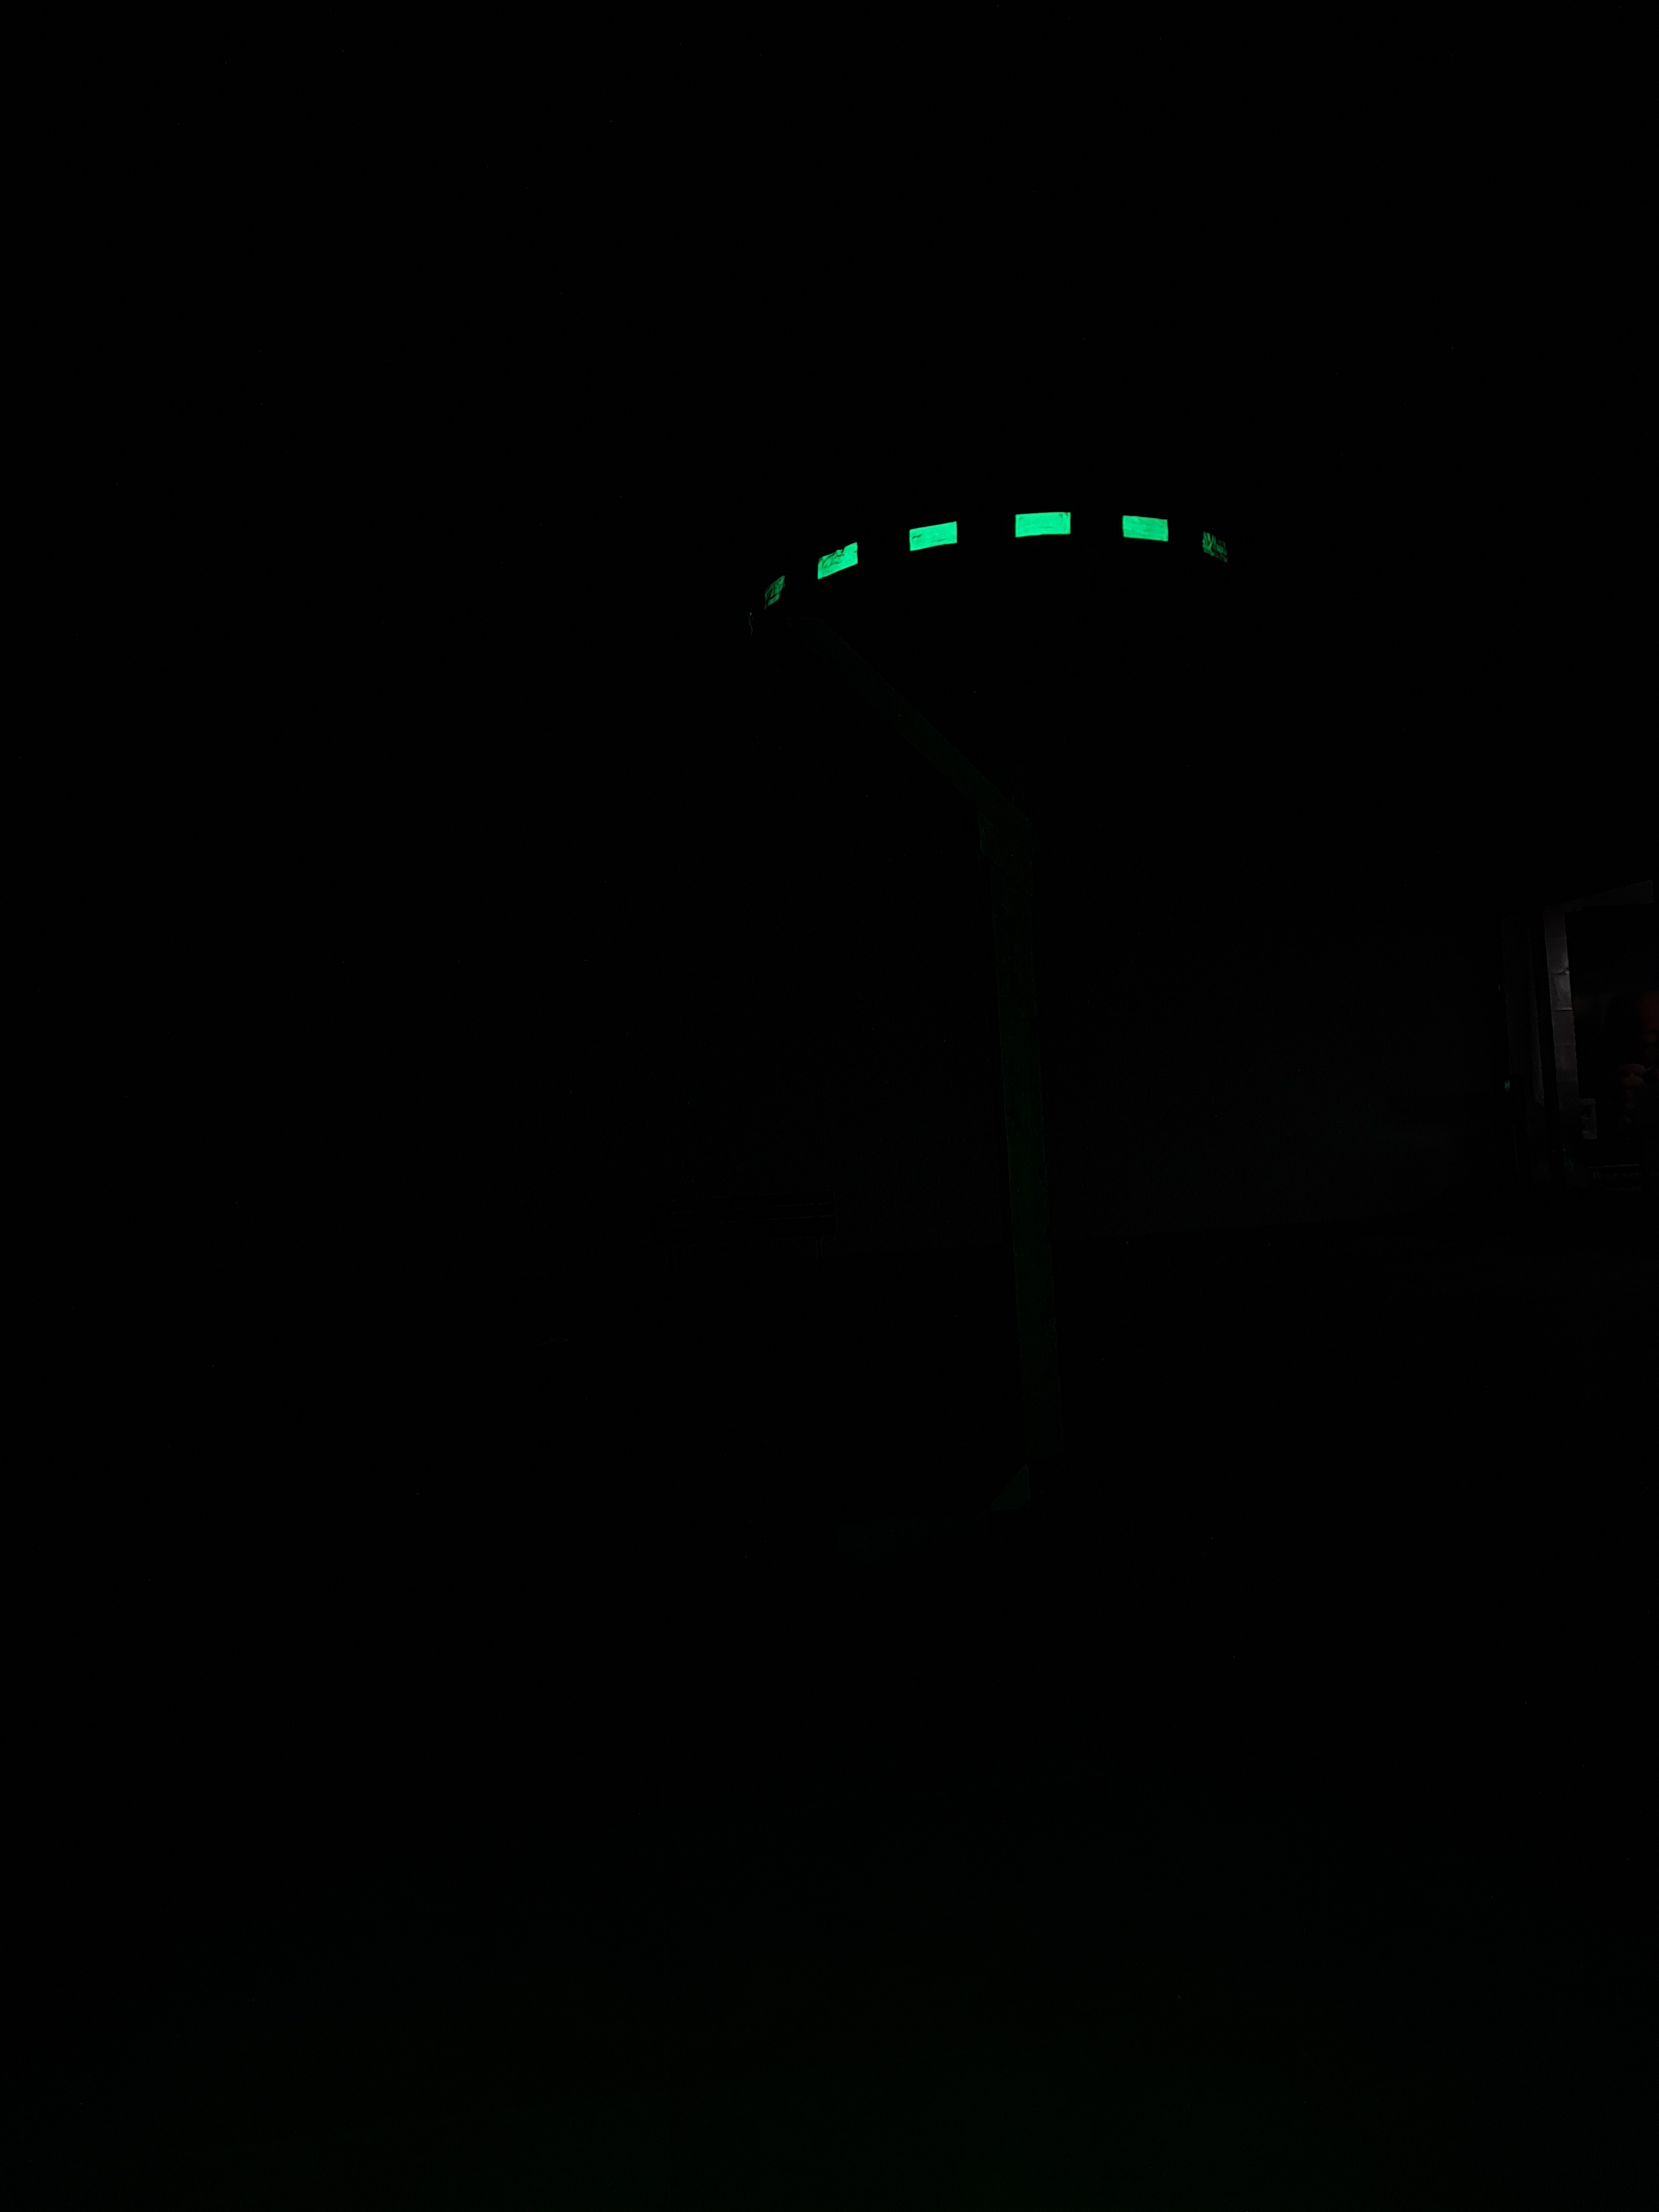hoop: (746, 465, 1260, 637)
